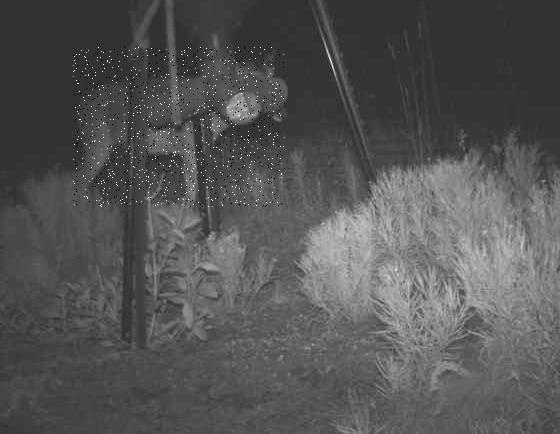Deer: (73, 48, 285, 208)
